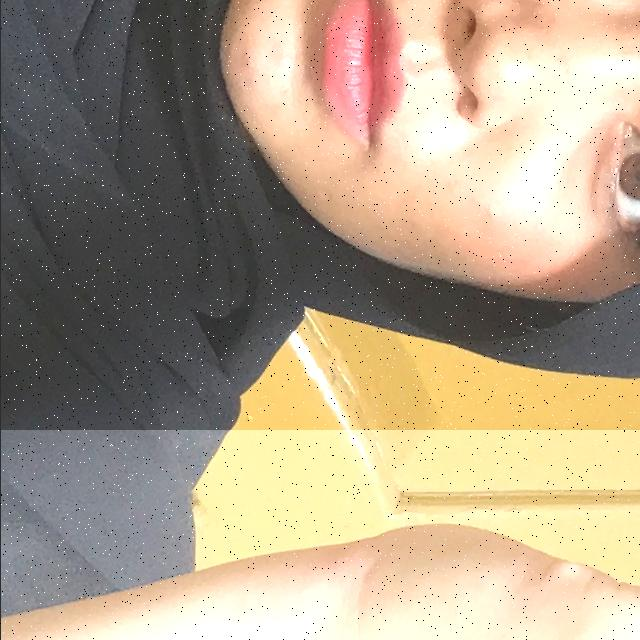kapan: (0, 430, 640, 640)
